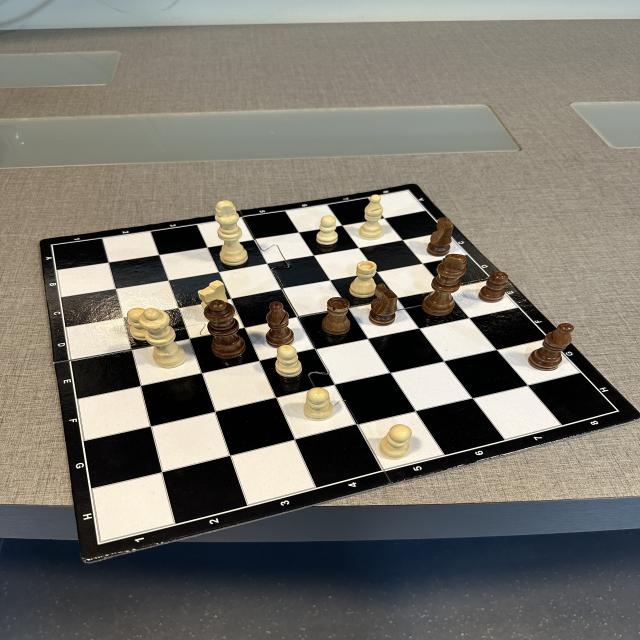Black-Bishop: (528, 323, 574, 371), (266, 301, 295, 348)
Black-King: (422, 254, 467, 316)
Black-Knight: (368, 283, 398, 326), (426, 217, 454, 257)
Black-Pawn: (478, 272, 509, 304)
Black-Queen: (203, 300, 247, 359)
Black-Rook: (321, 297, 351, 335)
White-Bishop: (358, 194, 384, 240)
White-King: (215, 200, 248, 266)
White-Knight: (198, 280, 228, 300)
White-Pawn: (379, 424, 412, 460), (303, 387, 334, 421), (275, 345, 302, 377), (126, 307, 150, 341), (316, 215, 338, 245)
White-Queen: (138, 307, 186, 368)
White-Rook: (349, 260, 377, 298)
